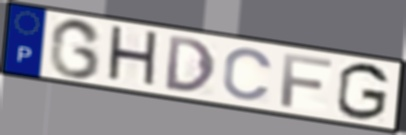C: (220, 46, 275, 103)
D: (164, 33, 218, 94)
F: (278, 52, 335, 110)
G: (46, 17, 104, 81), (335, 61, 392, 122)
H: (104, 23, 161, 92)
